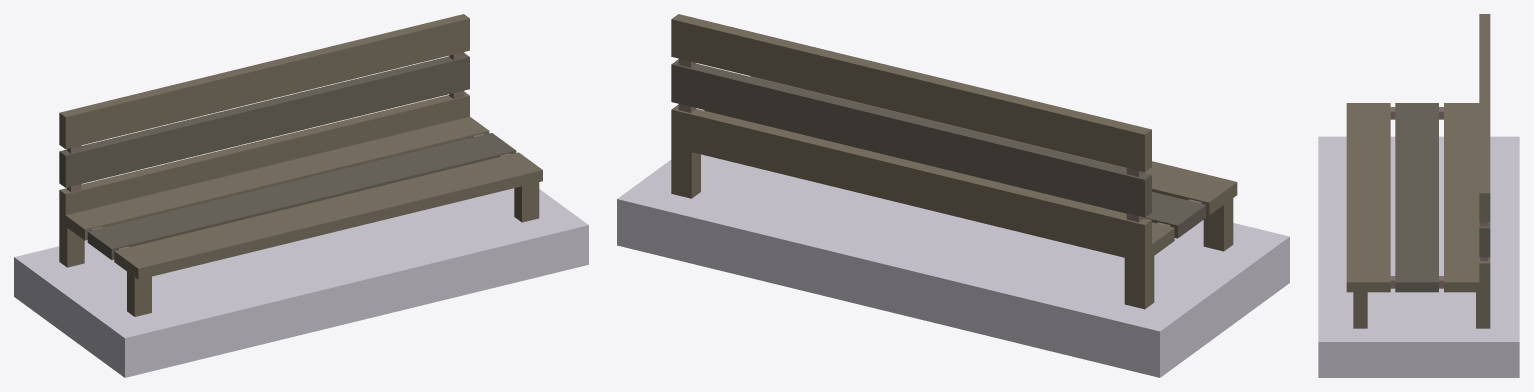
File: grass_bench_back.fbx
3 renders of one model, left to right at view 1: azimuth 30°, elevation 25°; view 2: azimuth 150°, elevation 25°; view 3: azimuth 270°, elevation 25°, orthographic. The views are drawn at different scales.
Parts seen in each view (by area): view 1: bench, white base.008; view 2: bench, white base.008; view 3: bench, white base.008.
Part boxes in pixels (<box>): bench: <box>59,14,542,316</box>; white base.008: <box>14,188,588,377</box>; bench: <box>671,14,1237,309</box>; white base.008: <box>617,154,1289,377</box>; bench: <box>1346,14,1490,328</box>; white base.008: <box>1318,136,1519,377</box>.
Size of the model in its own units: 297 by 116 by 123.
